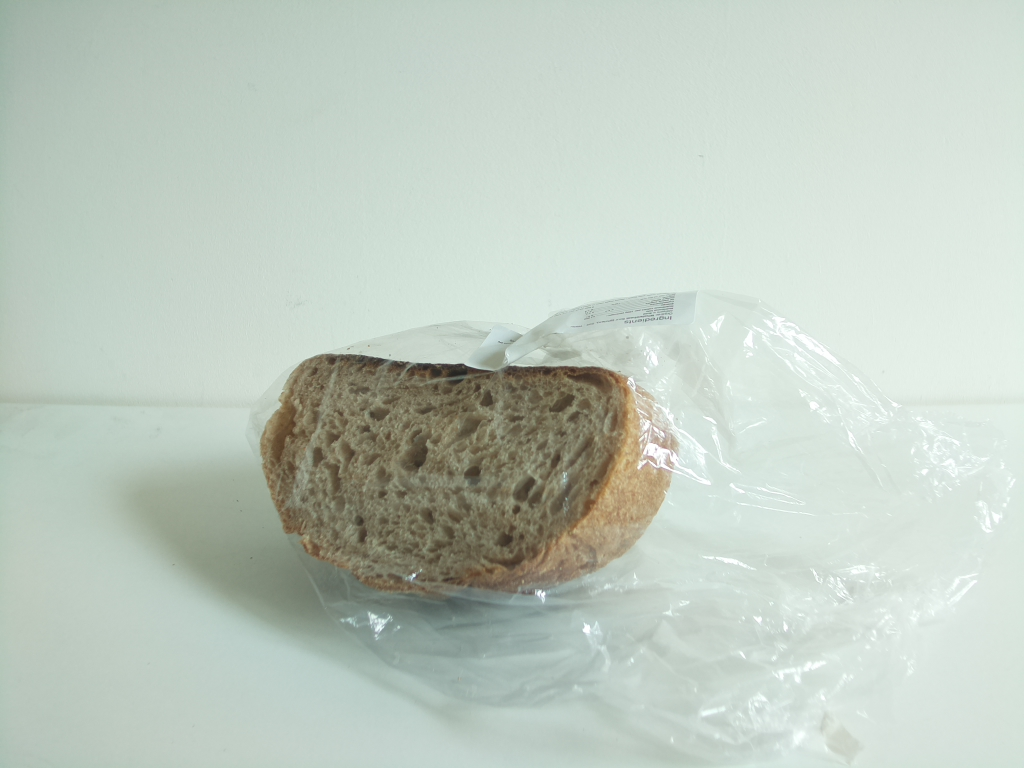bread: (256, 356, 677, 603)
